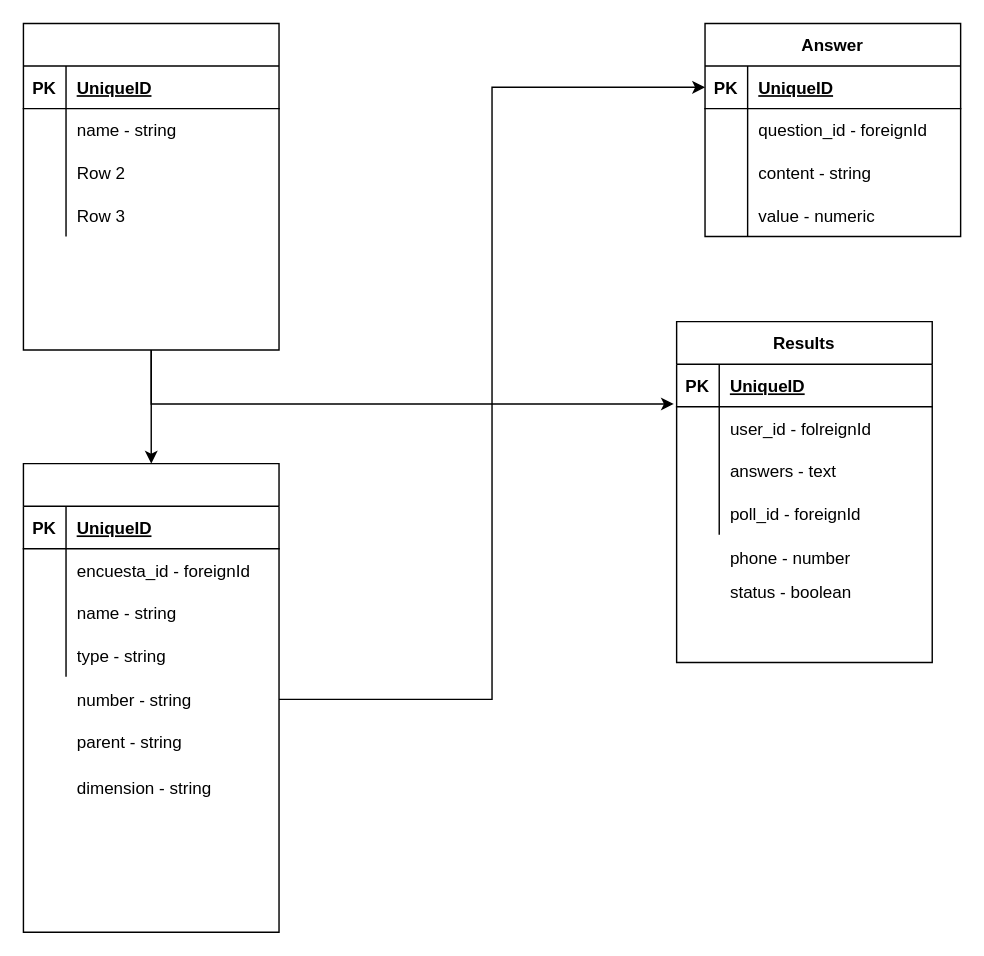
This 984x956 diagram has some shape labels left out. The box of each missing label's shape, as (x1, y1, x2, y2) in pixels:
Poll: (22, 22, 279, 350)
Question: (22, 462, 279, 932)
